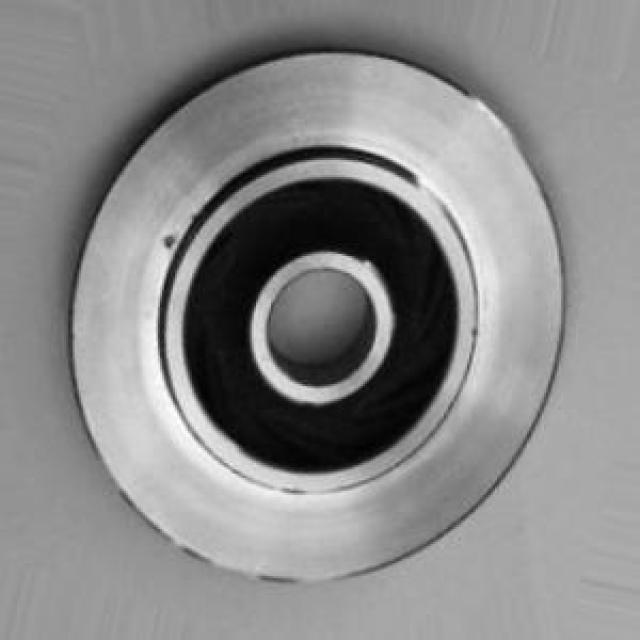Defect: (158, 232, 189, 251)
